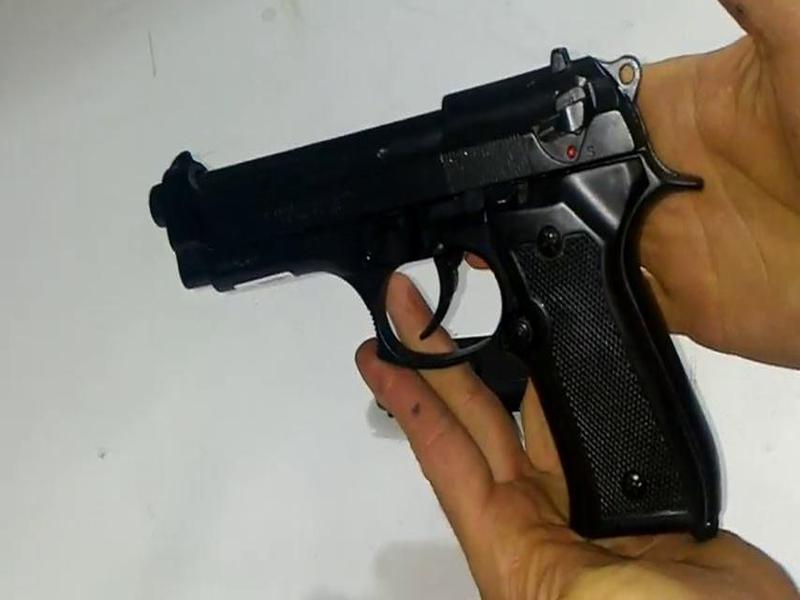Pistola: (120, 87, 739, 526)
